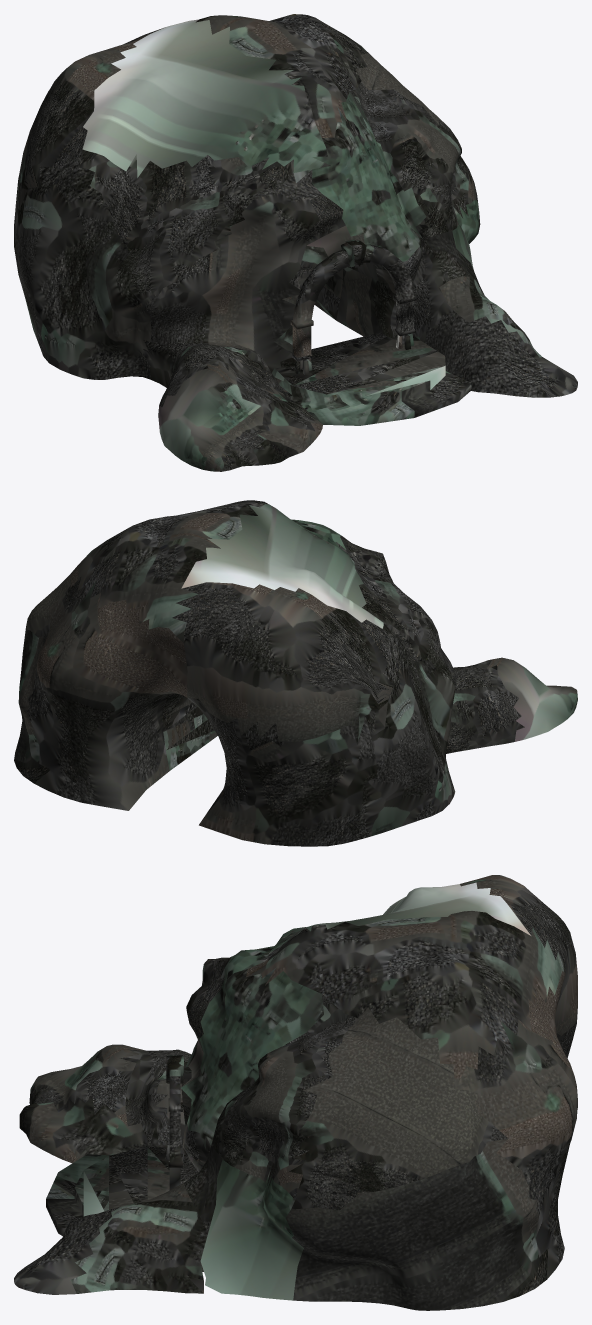
The model's file is ShyrackCaveEntrance.obj.
3 views of the same model, one above another, from view 1: azimuth 30°, elevation 25°; view 2: azimuth 150°, elevation 25°; view 3: azimuth 270°, elevation 25° (orthographic). The views are drawn at different scales.
Parts seen in each view (by area): view 1: tripo_node_05a8e58d-6885-49c9-b8a6-db8f0825c365; view 2: tripo_node_05a8e58d-6885-49c9-b8a6-db8f0825c365; view 3: tripo_node_05a8e58d-6885-49c9-b8a6-db8f0825c365.
Part boxes in pixels (left/top/right/bottom): tripo_node_05a8e58d-6885-49c9-b8a6-db8f0825c365: left=14, top=14, right=577, bottom=471; tripo_node_05a8e58d-6885-49c9-b8a6-db8f0825c365: left=14, top=500, right=577, bottom=846; tripo_node_05a8e58d-6885-49c9-b8a6-db8f0825c365: left=14, top=875, right=577, bottom=1310.
Bounding box in the file's own units: 0.9434 × 0.5684 × 0.998.
Materials: 1 (1 with a texture image).
